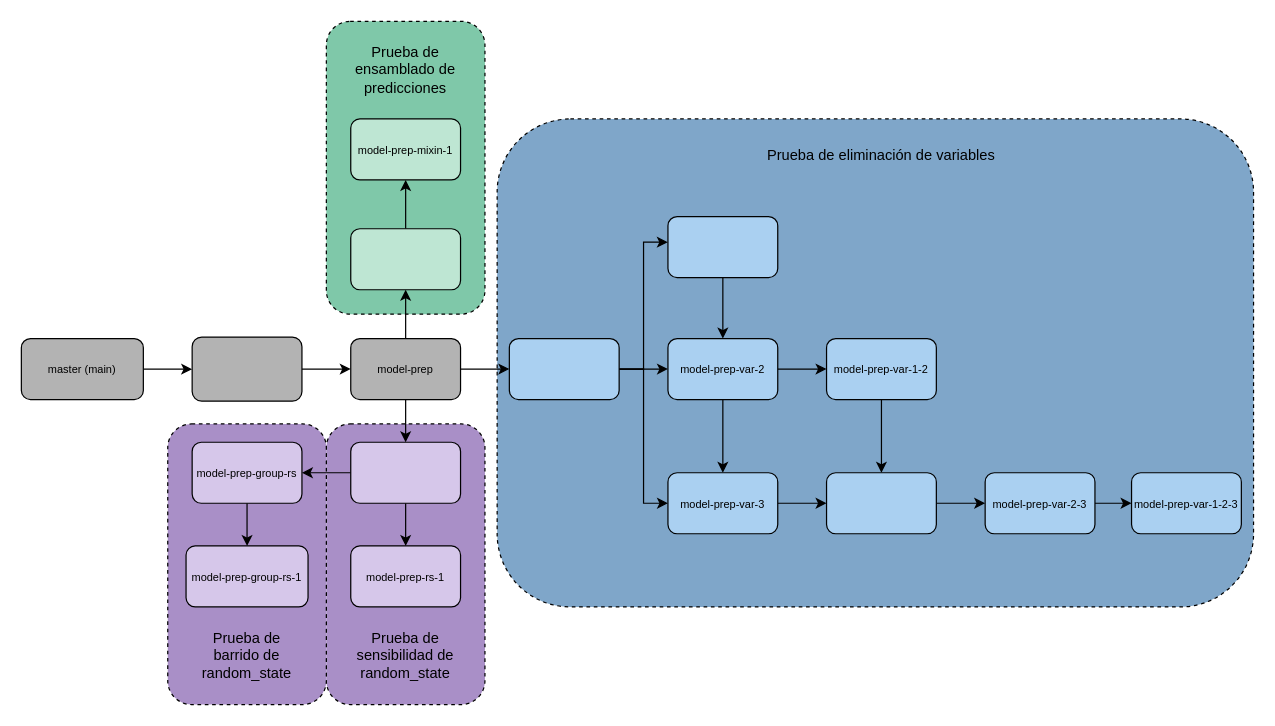
The diagram is 1275 pixels wide and 726 high, and some of its shapes have lost their labels. Here are the shapes that lost their labels. From the top down, the box of each, then its label:
(350, 228, 461, 290): model-prep-mixin
(667, 215, 778, 278): model-prep-var-1
(191, 336, 302, 401): data-prep
(508, 337, 619, 400): model-prep-var
(350, 441, 461, 503): model-prep-rs
(825, 472, 936, 534): model-prep-var-1-3
